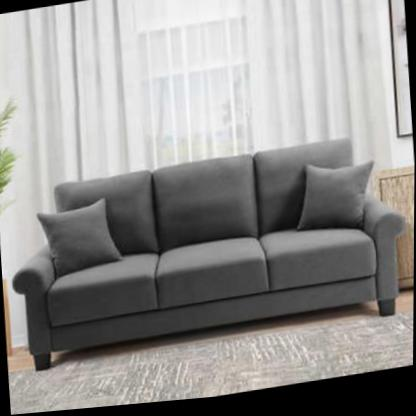Sofa: (4, 135, 411, 378)
